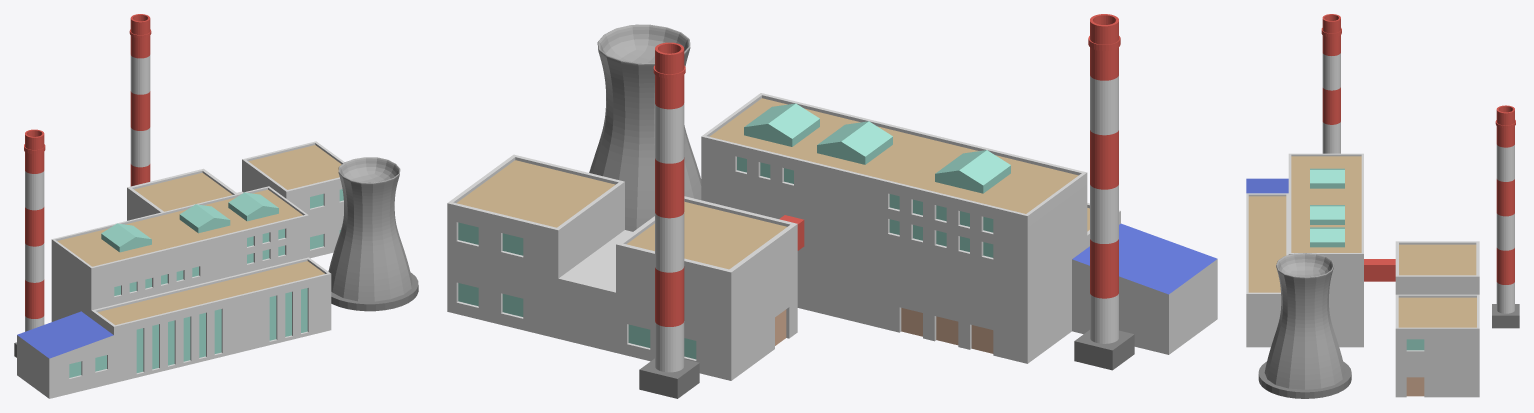
The model's file is centrale charbon.fbx.
3 views of the same model, side by side, from view 1: azimuth 30°, elevation 25°; view 2: azimuth 150°, elevation 25°; view 3: azimuth 270°, elevation 25° (orthographic). The views are drawn at different scales.
Parts seen in each view (by area): view 1: centrale charbon; view 2: centrale charbon; view 3: centrale charbon.
Boxes of the visible parts, x1=… form: centrale charbon: x1=14, y1=14, x2=418, y2=398; centrale charbon: x1=447, y1=14, x2=1217, y2=398; centrale charbon: x1=1246, y1=14, x2=1519, y2=398.
Size of the model in its own units: 1026 by 562 by 652.
